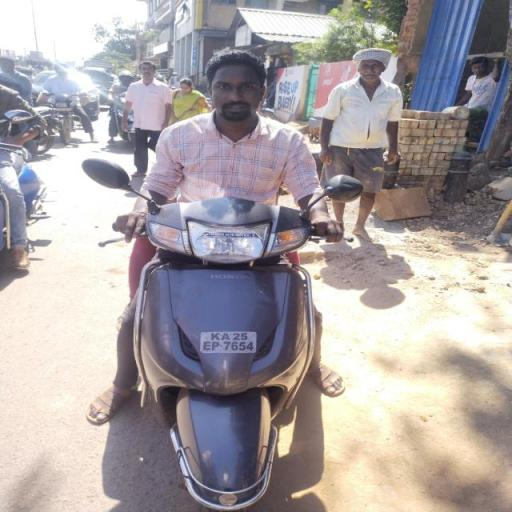bike: (80, 37, 375, 512)
numberplate: (202, 332, 258, 354)
withouthelmet: (206, 50, 267, 116)
